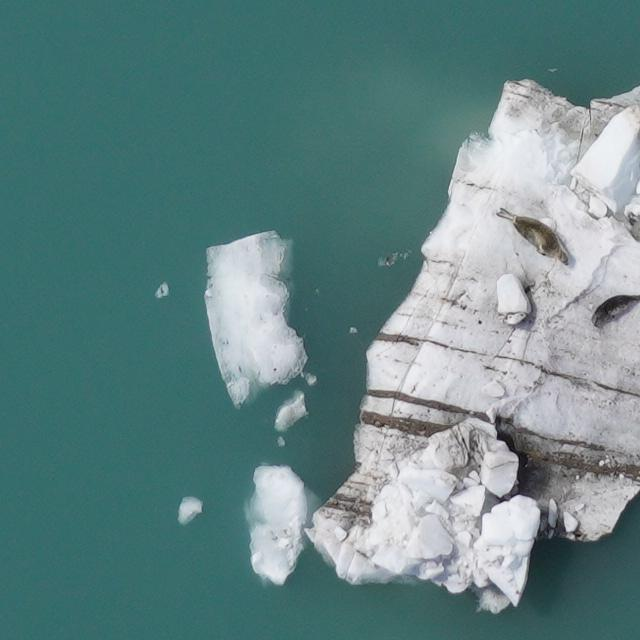seal: (493, 198, 579, 270)
